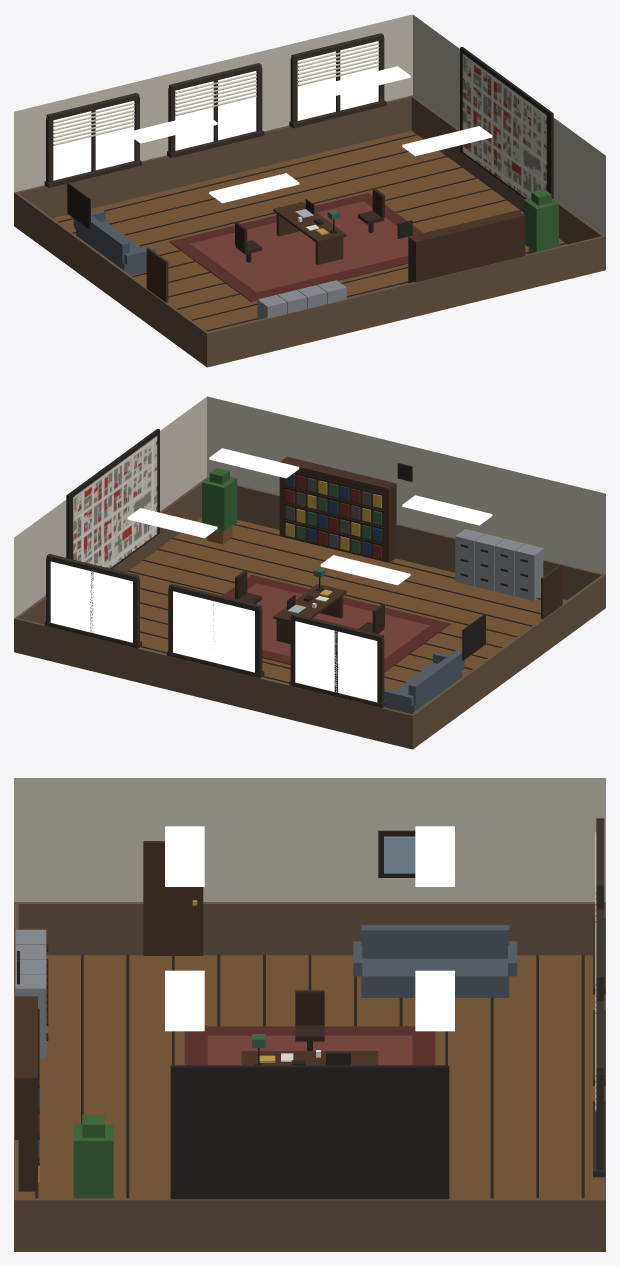
Rendered from set_office.glb.
3 renders of one model, top to bottom at view 1: azimuth 30°, elevation 25°; view 2: azimuth 150°, elevation 25°; view 3: azimuth 270°, elevation 25°, orthographic. The views are drawn at different scales.
Parts seen in each view (by area): view 1: shell, wains.001, wains, floor_rug2, map, wains.003, book, win, floor_rug, win.001, wains.002, win.002 (+24 smaller); view 2: shell, wains, map, wains.003, win.002, win, win.001, book, wains.001, floor_rug2, wains.002, floor_rug (+25 smaller); view 3: shell, mapframe, wains.002, wains.003, door, couch_b, couch_s, book, floor_rug2, floor_rug, plant, light.002 (+18 smaller).
Part boxes in pixels (x1,y1,x2,y2): shell: (14,14,605,331); wains.001: (205,235,604,367); wains: (14,95,413,226); floor_rug2: (190,201,409,292); map: (462,52,547,198); wains.003: (15,192,209,367); book: (408,210,525,283); win: (53,100,134,180); floor_rug: (169,193,423,301); win.001: (175,71,256,150); wains.002: (411,96,605,270); win.002: (297,41,378,120); shell: (14,396,605,707); wains: (14,617,414,749); map: (72,434,157,568); wains.003: (410,574,605,749); win.002: (50,561,132,642); win: (295,621,377,702); win.001: (173,591,254,672); book: (279,456,396,562); wains.001: (206,477,605,607); floor_rug2: (247,583,429,658); wains.002: (14,478,206,652); floor_rug: (222,575,450,672); shell: (14,778,605,1198); mapframe: (170,1065,449,1199); wains.002: (14,1198,605,1251); wains.003: (15,902,605,955); door: (143,841,203,955); couch_b: (361,925,509,958); couch_s: (361,958,509,997); book: (15,996,37,1191); floor_rug2: (207,1035,412,1065); floor_rug: (184,1026,435,1065); plant: (73,1124,113,1198); light.002: (165,970,204,1031).
Size of the model in its own units: 124 by 35.6 by 104.
Materials: 30 (1 with a texture image).
